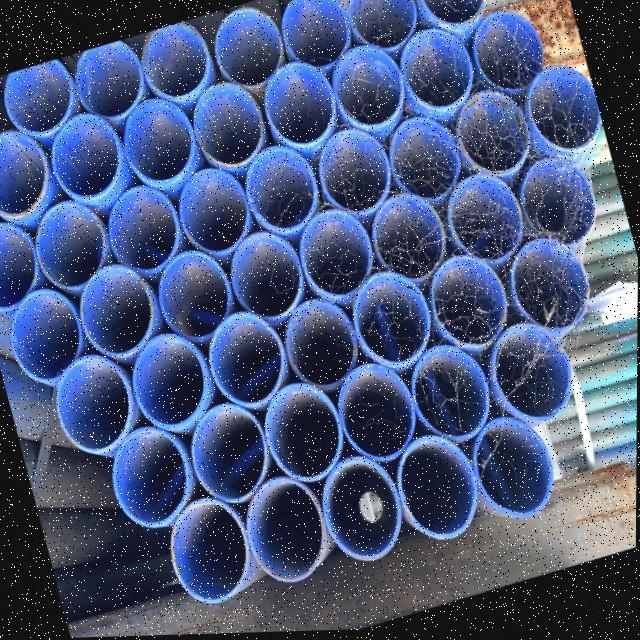pipe: (171, 495, 264, 605), (246, 477, 336, 587), (468, 420, 558, 521), (192, 403, 271, 508), (57, 357, 137, 460), (402, 439, 481, 542), (324, 463, 403, 566), (112, 427, 189, 532), (264, 381, 342, 483), (430, 256, 512, 351), (353, 275, 433, 371), (9, 288, 85, 389), (133, 334, 212, 431), (209, 313, 288, 410), (411, 346, 490, 442), (341, 362, 416, 462), (496, 328, 573, 425), (79, 262, 153, 362), (511, 241, 588, 334), (447, 180, 524, 272), (283, 302, 359, 392), (157, 253, 231, 345), (35, 200, 107, 294), (372, 197, 447, 286), (229, 232, 303, 322), (245, 149, 321, 236), (522, 161, 596, 250), (177, 171, 251, 260), (260, 64, 334, 153), (122, 98, 195, 188), (108, 188, 182, 276), (192, 82, 266, 170), (388, 118, 465, 202), (300, 215, 372, 304), (455, 96, 531, 180), (531, 69, 602, 158), (321, 129, 392, 217), (331, 50, 405, 133), (50, 116, 120, 202), (401, 32, 475, 113), (471, 12, 544, 94), (215, 8, 286, 88), (73, 41, 145, 119), (141, 24, 214, 100), (2, 58, 72, 134), (284, 0, 353, 70), (344, 0, 420, 53), (0, 132, 46, 216), (0, 226, 38, 317), (423, 0, 487, 26)
